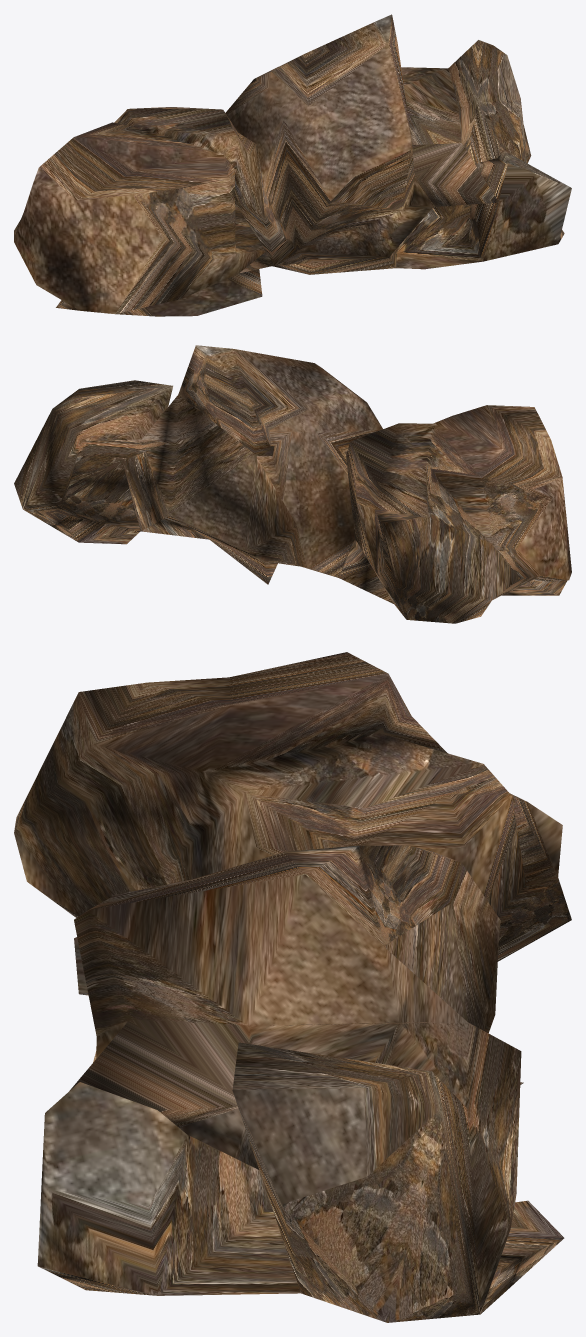
Rendered from ph_namaqualand_boulder_02_lod.glb.
3 renders of one model, top to bottom at view 1: azimuth 30°, elevation 25°; view 2: azimuth 150°, elevation 25°; view 3: azimuth 270°, elevation 25°, orthographic. The views are drawn at different scales.
Parts seen in each view (by area): view 1: boulder_02; view 2: boulder_02; view 3: boulder_02.
Boxes of the visible parts, box(x1,y1,x2,y2) form: boulder_02: box(14, 14, 571, 316); boulder_02: box(14, 345, 571, 623); boulder_02: box(14, 652, 571, 1322).
Bounding box in the file's own units: 2.47 × 0.851 × 1.22.
Materials: 1 (1 with a texture image).
